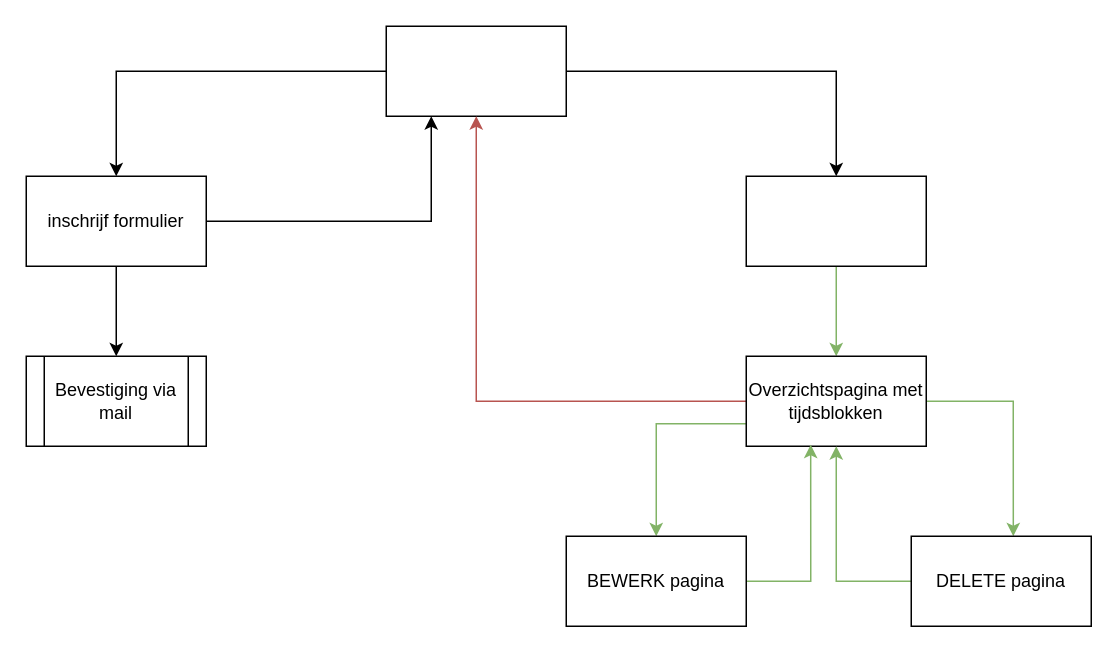
This 1118x653 diagram has some shape labels left out. The box of each missing label's shape, as (x1, y1, x2, y2) in pixels:
HomePagina: (385, 25, 566, 116)
Login Pagina voor administrator: (745, 175, 926, 266)
